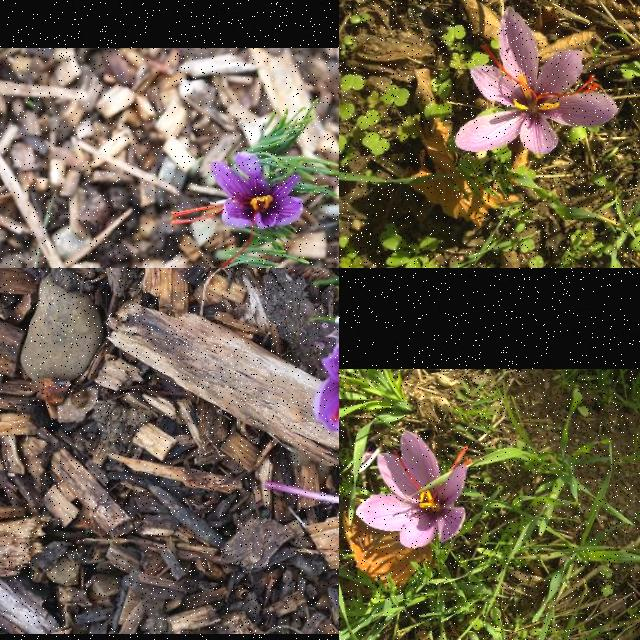flower: (457, 8, 618, 158), (170, 151, 304, 268), (356, 431, 474, 549), (312, 333, 339, 469)
